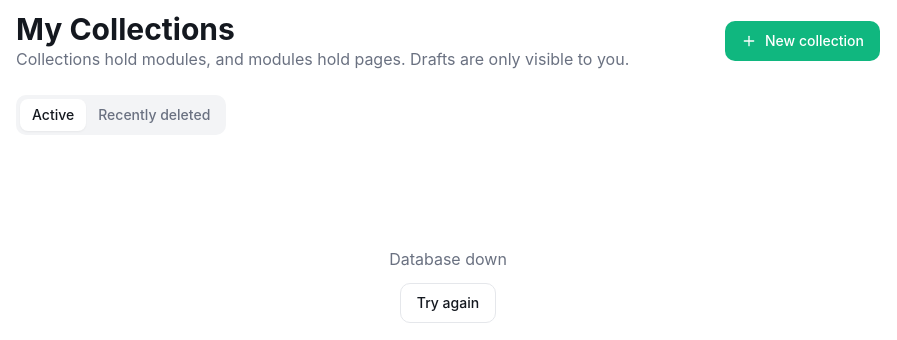
Test case: My Collections list › a server error shows a retryable message
Expected: the message shows "Database down", x1=389 y1=249 x2=507 y2=269
Click the button "Try again" at x=448, y=303, box x1=400 y1=283 x2=496 y2=323
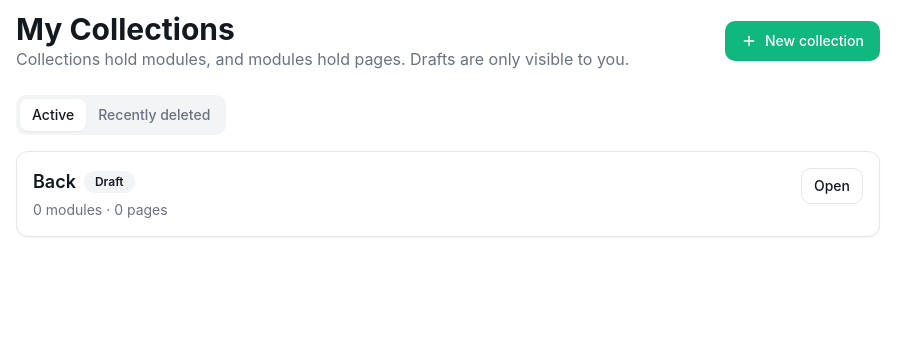
Result: the link "Back" is shown at x1=33 y1=168 x2=76 y2=196
